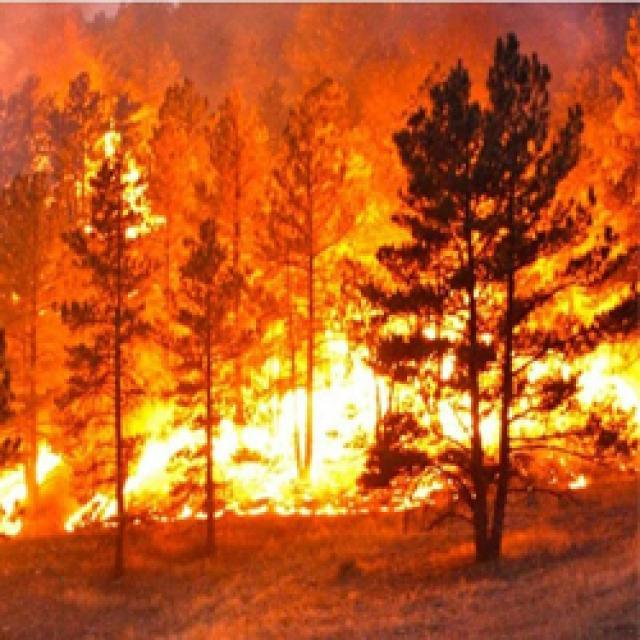Fire: (0, 0, 640, 541), (99, 295, 452, 531), (265, 278, 640, 494), (44, 66, 198, 250), (0, 347, 72, 555)
Smoke: (0, 0, 640, 130)
